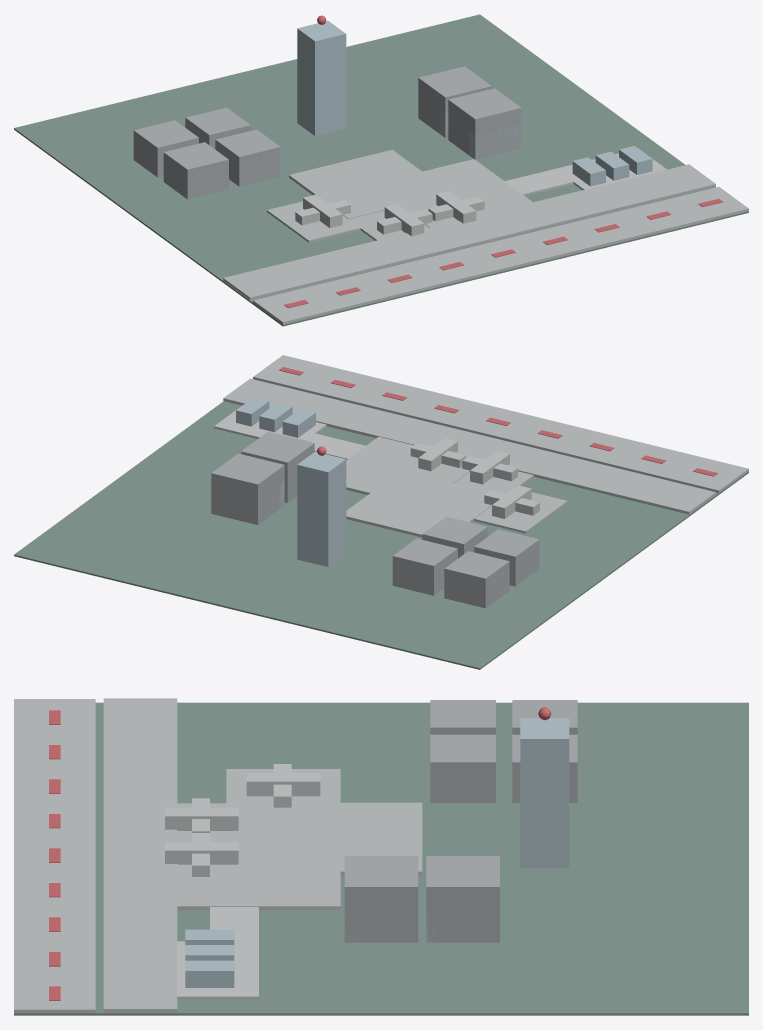
Rendered from stage_15.glb.
3 views of the same model, one above another, from view 1: azimuth 30°, elevation 25°; view 2: azimuth 150°, elevation 25°; view 3: azimuth 270°, elevation 25° (orthographic). The views are drawn at different scales.
Visible parts, largest first — view 1: geometry_0; view 2: geometry_0; view 3: geometry_0.
Boxes of the visible parts, box(x1,y1,x2,y2) form: geometry_0: box(14, 14, 748, 326); geometry_0: box(14, 355, 748, 669); geometry_0: box(14, 698, 748, 1015).
Size of the model in its own units: 9 by 2.06 by 9.
